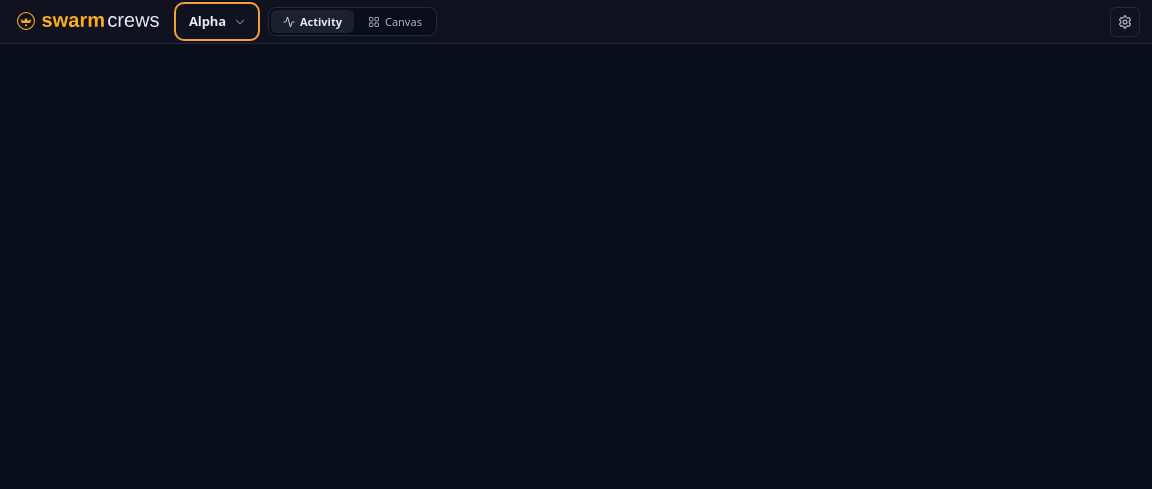
it: project switcher counts-only activity › does not invent zero counts when the first summary is unavailable
Click the button "Alpha" at (217, 22), box [178, 6, 256, 37]
Wait 5000 ms
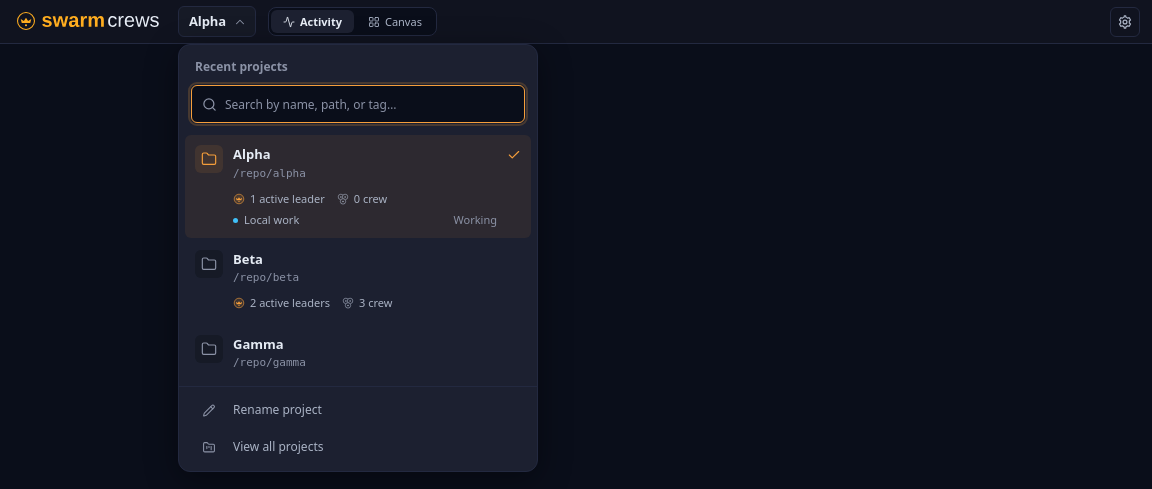
Expected: the text "2 active leaders" is shown, [233, 295, 330, 311]
Expected: the text "3 crew" is shown, [342, 295, 392, 311]
